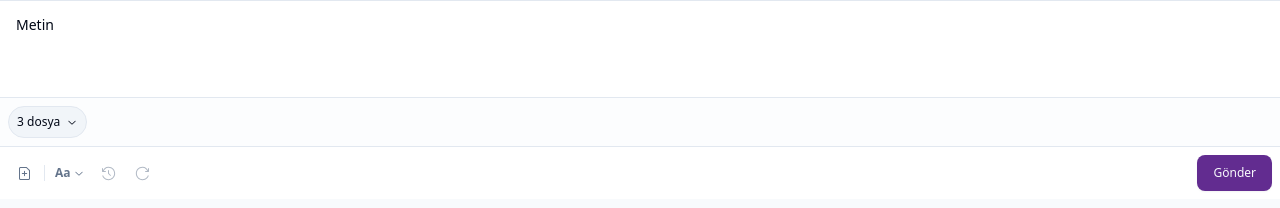
RichTextComposer attachments (COMP-05/THRD-05) › collapses 3+ attachments behind a summary pill that expands on click
Expected: the text "a.pdf" is not shown
Click the button "3 dosya" at (48, 122), box [8, 106, 87, 138]
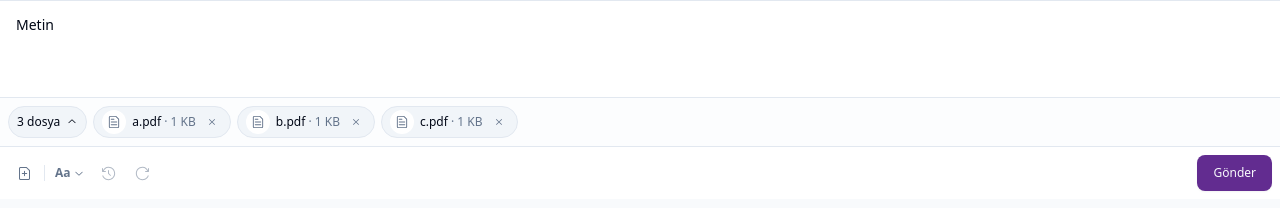
Expected: the text "a.pdf" is shown, [132, 114, 161, 130]
Expected: the text "b.pdf" is shown, [276, 114, 305, 130]
Expected: the text "c.pdf" is shown, [420, 114, 448, 130]
